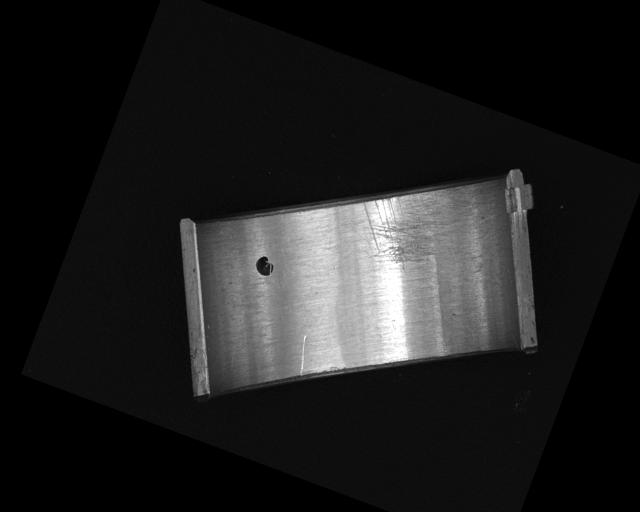blot: (252, 253, 277, 278)
nick: (290, 334, 316, 375)
scratch: (346, 154, 472, 284)
